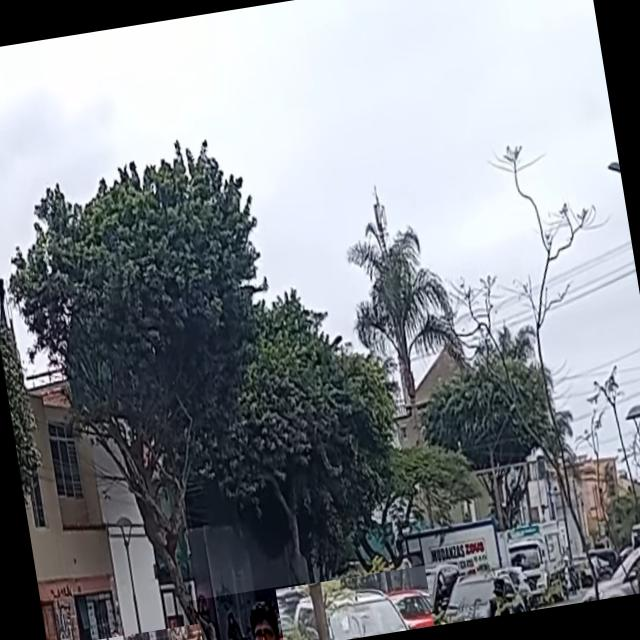bicycle: (187, 582, 315, 640)
car: (275, 565, 434, 640), (429, 560, 530, 626), (48, 623, 206, 640)
